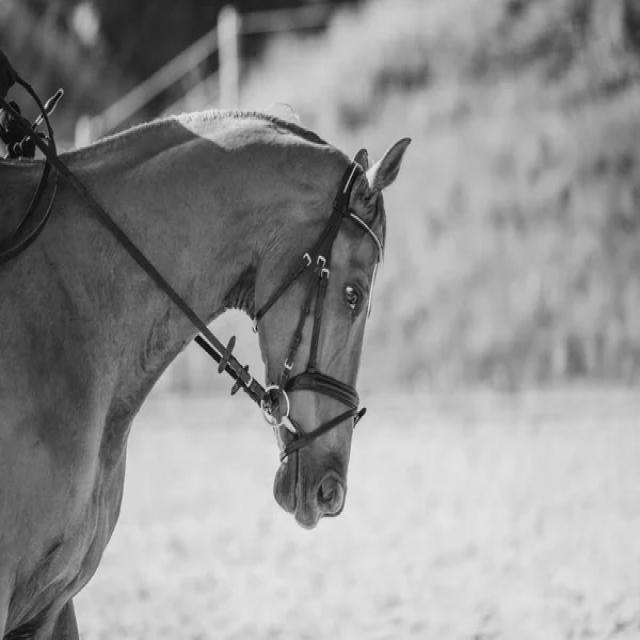Animal: (0, 109, 411, 640)
